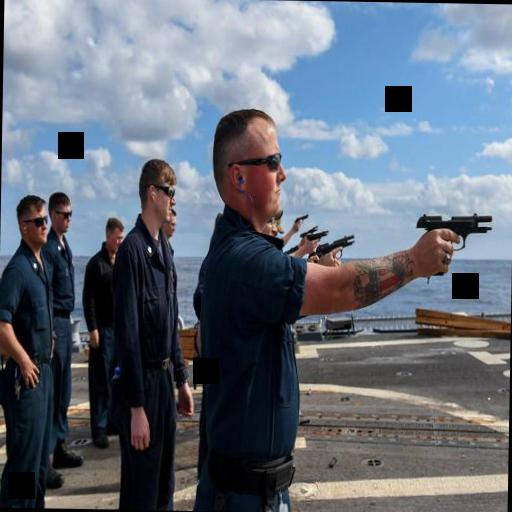Handgun: (413, 208, 492, 275), (317, 233, 354, 262), (306, 225, 326, 246), (296, 221, 316, 241), (292, 207, 308, 223)
